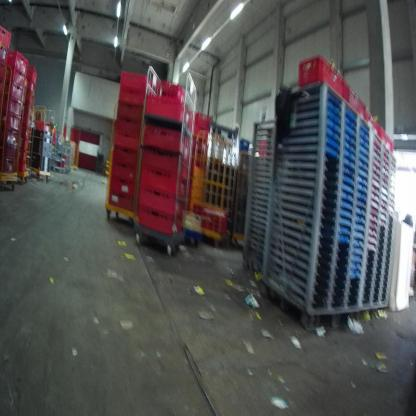small_load_carrier: (296, 47, 348, 104), (143, 122, 190, 170), (139, 144, 187, 181), (144, 91, 193, 127), (136, 205, 188, 238), (342, 75, 371, 133), (138, 190, 189, 220), (138, 167, 187, 195), (118, 68, 149, 91), (114, 115, 145, 138), (112, 127, 139, 153), (111, 163, 140, 187), (118, 98, 143, 125), (6, 48, 30, 76), (109, 179, 143, 197), (193, 112, 219, 135), (105, 191, 135, 210), (110, 148, 143, 165), (119, 85, 146, 104), (3, 94, 22, 119), (4, 80, 24, 101), (3, 112, 21, 132), (2, 128, 18, 149), (0, 140, 17, 159), (1, 23, 12, 51), (8, 68, 25, 86), (24, 64, 39, 84), (3, 159, 17, 176), (1, 61, 7, 80), (2, 43, 8, 61)
